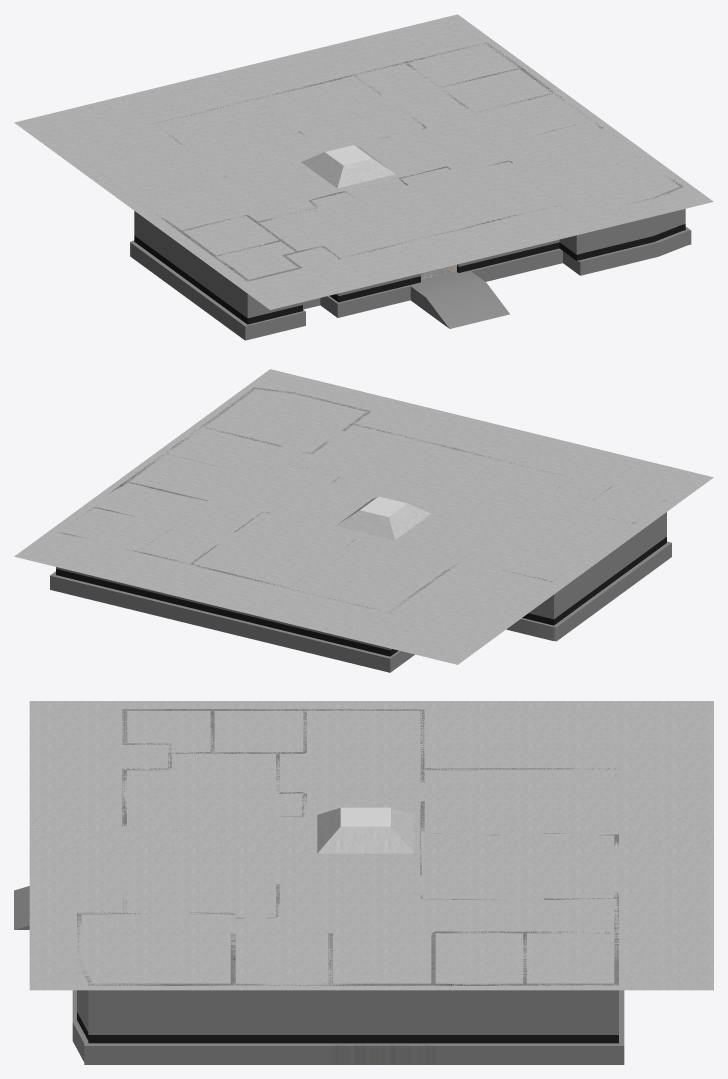
File: Update 7_10.fbx
3 views of the same model, one above another, from view 1: azimuth 30°, elevation 25°; view 2: azimuth 150°, elevation 25°; view 3: azimuth 270°, elevation 25° (orthographic). The views are drawn at different scales.
Visible parts, largest first — view 1: Roof, MainFrame; view 2: Roof, MainFrame; view 3: Roof, MainFrame.
Part boxes in pixels (x1,y1,x2,y2): Roof: [14, 14, 713, 309]; MainFrame: [130, 42, 691, 340]; Roof: [14, 369, 713, 664]; MainFrame: [50, 387, 671, 672]; Roof: [29, 701, 713, 990]; MainFrame: [14, 709, 624, 1064].
Size of the model in its own units: 8219 by 1237 by 8407.
